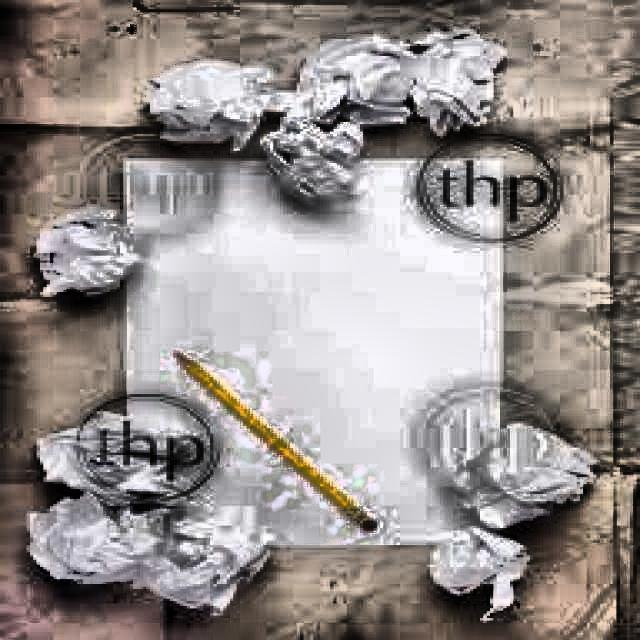Paper: (113, 153, 500, 545), (290, 24, 503, 139), (30, 407, 217, 507), (440, 426, 593, 533), (130, 506, 273, 611), (24, 489, 164, 591), (247, 97, 363, 214), (144, 58, 274, 151), (27, 202, 137, 297), (420, 523, 523, 616)
